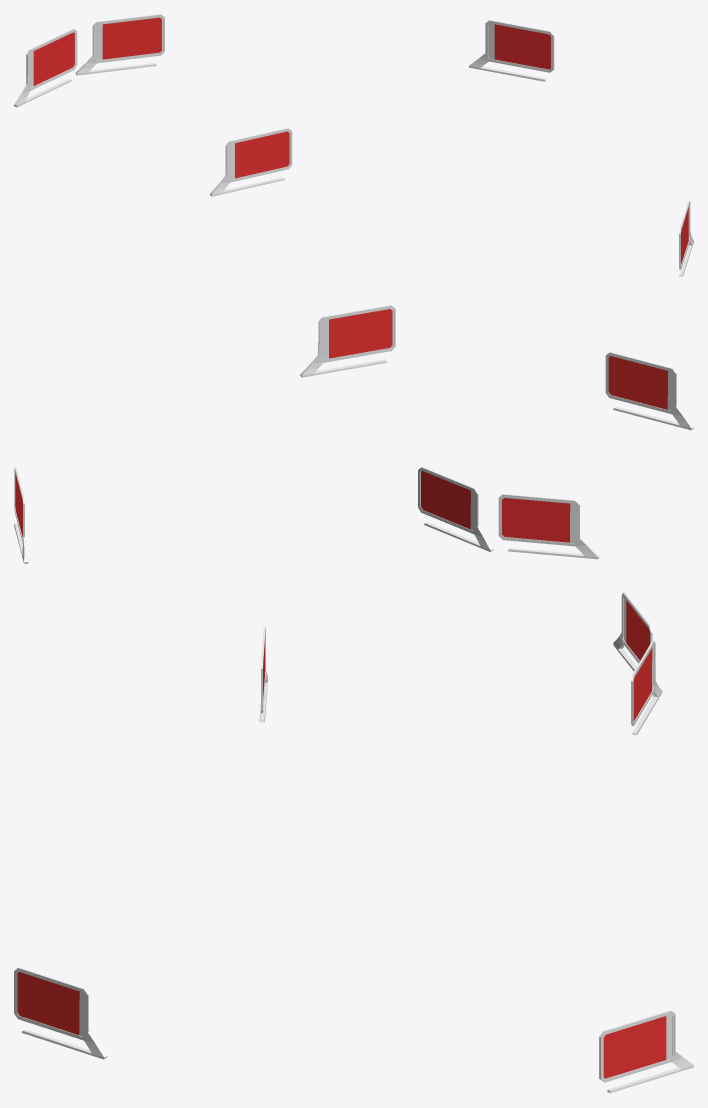
Rendered from tabloeshab2.fbx.
The picture shows the model from 3 angles, top to bottom: view 1: azimuth 30°, elevation 25°; view 2: azimuth 150°, elevation 25°; view 3: azimuth 270°, elevation 25°; orthographic projection. The views are drawn at different scales.
Visible parts, largest first — view 1: Tablon001, Tablon003, Tablon, Tablon002, Tablon004; view 2: Tablon002, Tablon004, Tablon, Tablon001, Tablon003; view 3: Tablon003, Tablon004, Tablon001, Tablon002.
Part boxes in pixels (bbox=[...]): Tablon001: bbox=[75, 14, 164, 75]; Tablon003: bbox=[469, 20, 554, 81]; Tablon: bbox=[210, 128, 292, 196]; Tablon002: bbox=[14, 28, 77, 107]; Tablon004: bbox=[679, 200, 693, 276]; Tablon002: bbox=[498, 494, 599, 559]; Tablon004: bbox=[300, 305, 395, 377]; Tablon: bbox=[605, 352, 693, 430]; Tablon001: bbox=[418, 467, 493, 551]; Tablon003: bbox=[14, 467, 28, 563]; Tablon003: bbox=[599, 1010, 693, 1093]; Tablon004: bbox=[14, 967, 107, 1059]; Tablon001: bbox=[631, 640, 662, 735]; Tablon002: bbox=[613, 592, 652, 670].
Bounding box in the file's own units: 2376 × 643 × 2100.
